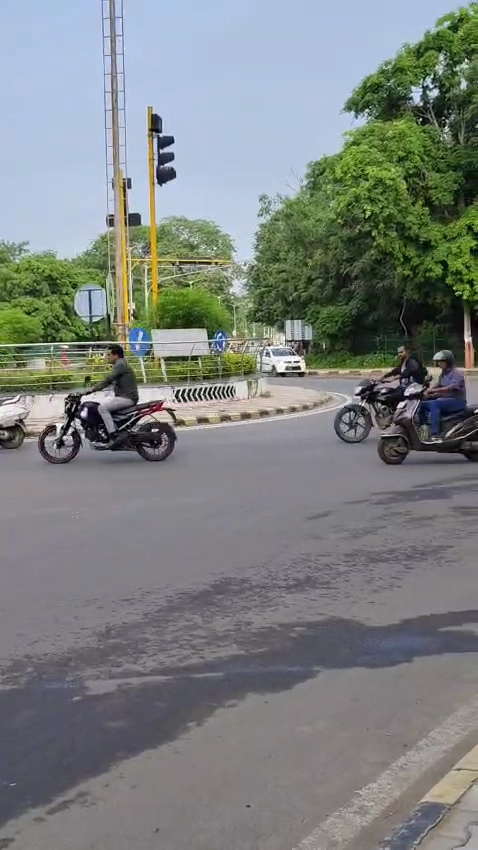BikeWithRider: (33, 338, 184, 469), (371, 344, 478, 468), (328, 340, 438, 446)
Helmet: (432, 347, 456, 371)
NoHelmet: (101, 341, 128, 367), (392, 341, 413, 363), (393, 342, 409, 361)
